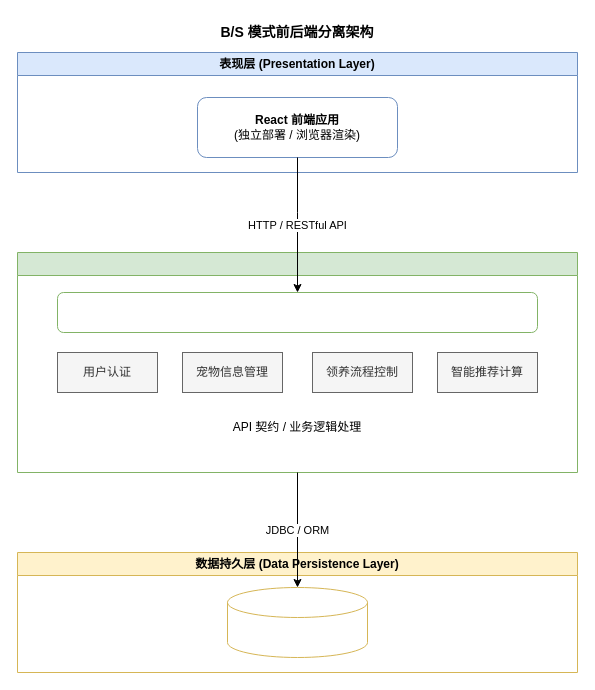
This 595x690 diagram has some shape labels left out. The shapes that lost their labels are listed below. From the top down, each one's box as (x1, y1, x2, y2) in pixels, then its label:
(56, 292, 538, 332): SpringBoot 后端服务 (RESTful API)
(16, 252, 578, 472): 业务逻辑层 (Business Logic Layer)
(226, 586, 368, 658): MySQL 关系型数据库 (结构化数据存储)
